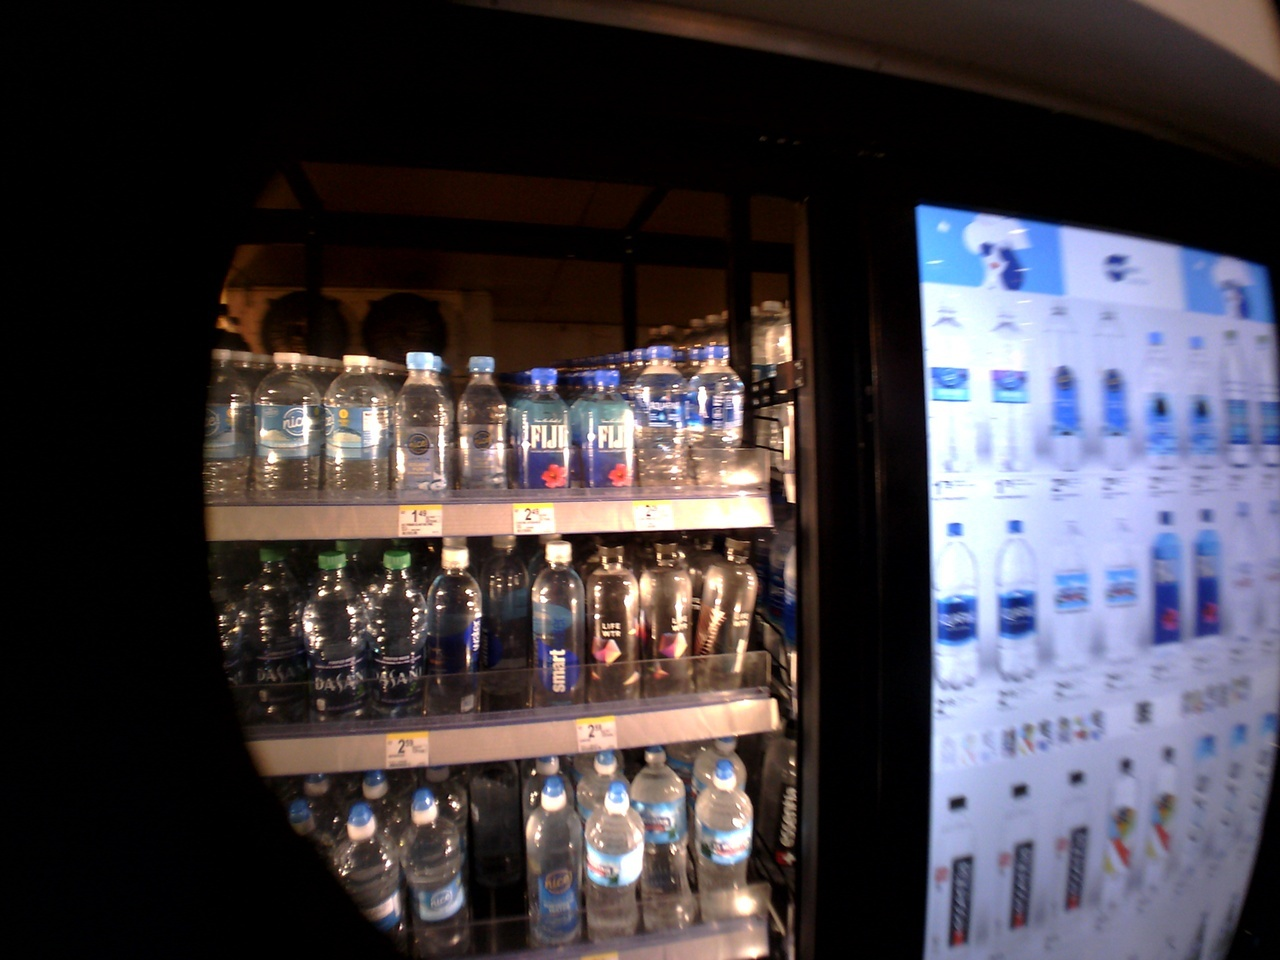shelf: (193, 725, 776, 960), (189, 543, 782, 764), (196, 333, 769, 535)
